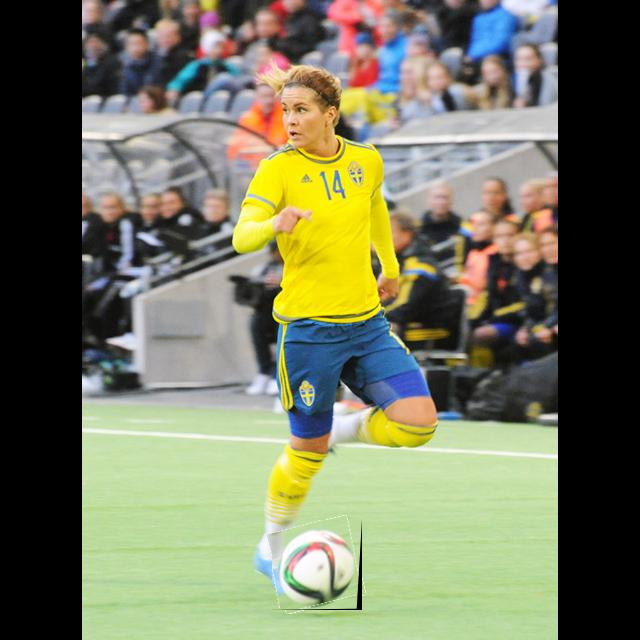Football: (272, 520, 362, 610)
